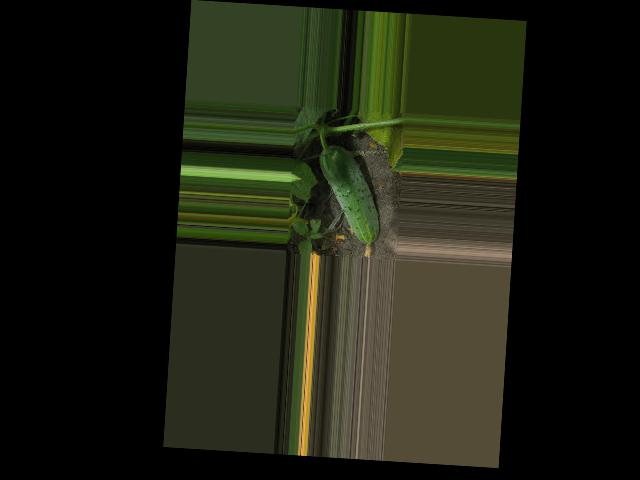cucumber: (313, 144, 385, 258)
